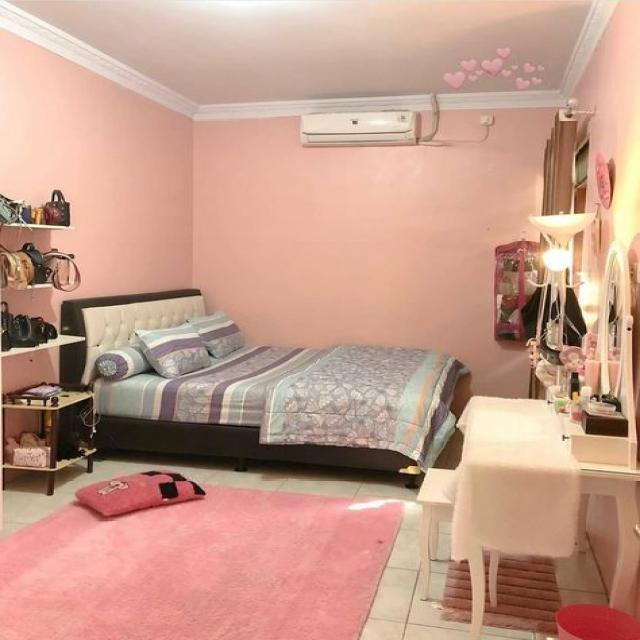AC: (299, 109, 419, 147)
